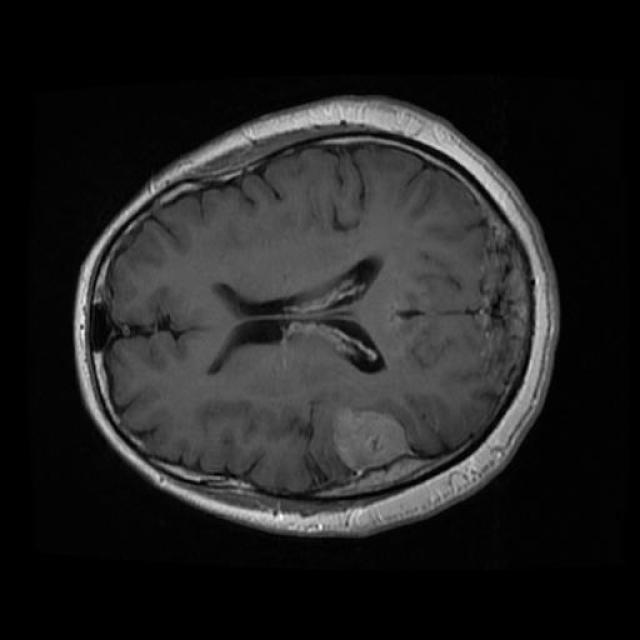Meningioma: (334, 408, 411, 475)
